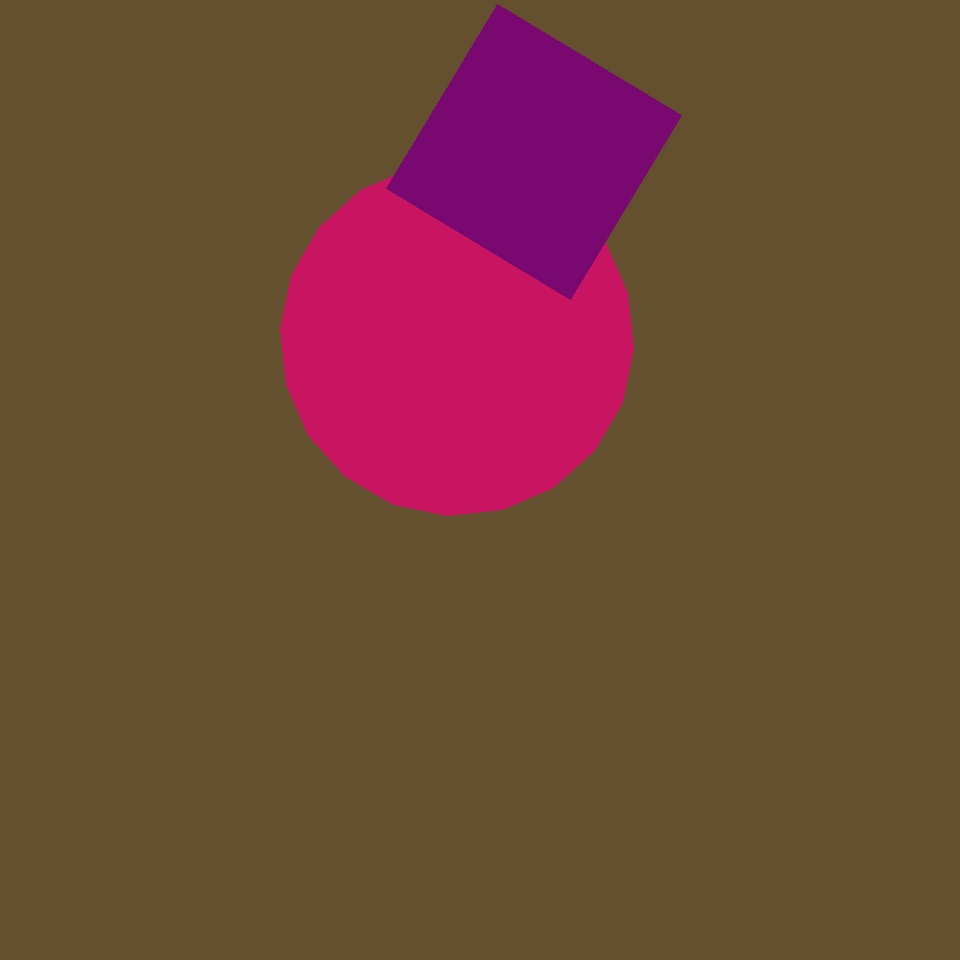circle: (267, 489, 513, 752), (528, 499, 651, 626)
square: (386, 4, 682, 300), (366, 156, 625, 416)
triangle: (280, 162, 634, 516)
